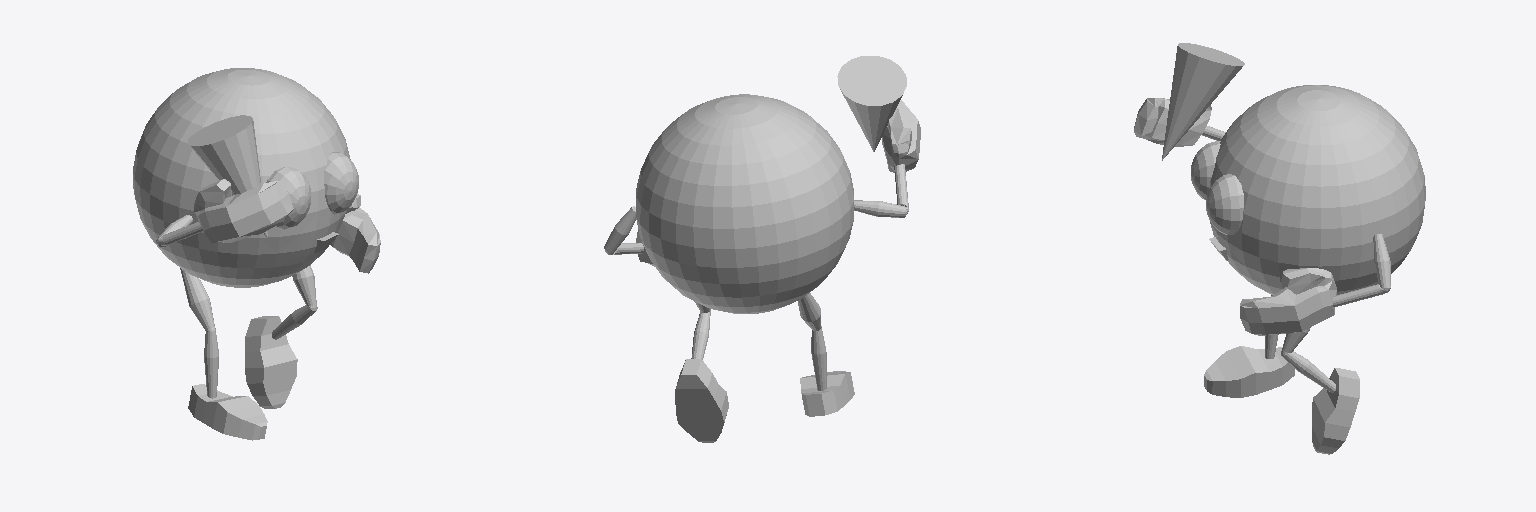
File: runToStand_000046.obj
3 renders of one model, left to right at view 1: azimuth 30°, elevation 25°; view 2: azimuth 150°, elevation 25°; view 3: azimuth 270°, elevation 25°, orthographic.
Visible parts, largest first — view 1: Rusko_Sphere; view 2: Rusko_Sphere; view 3: Rusko_Sphere.
Boxes of the visible parts, x1,y1,x2,y2 form: Rusko_Sphere: [133, 68, 380, 440]; Rusko_Sphere: [604, 56, 920, 442]; Rusko_Sphere: [1134, 43, 1425, 454].
Size of the model in its own units: 5.01 by 7.18 by 5.31.